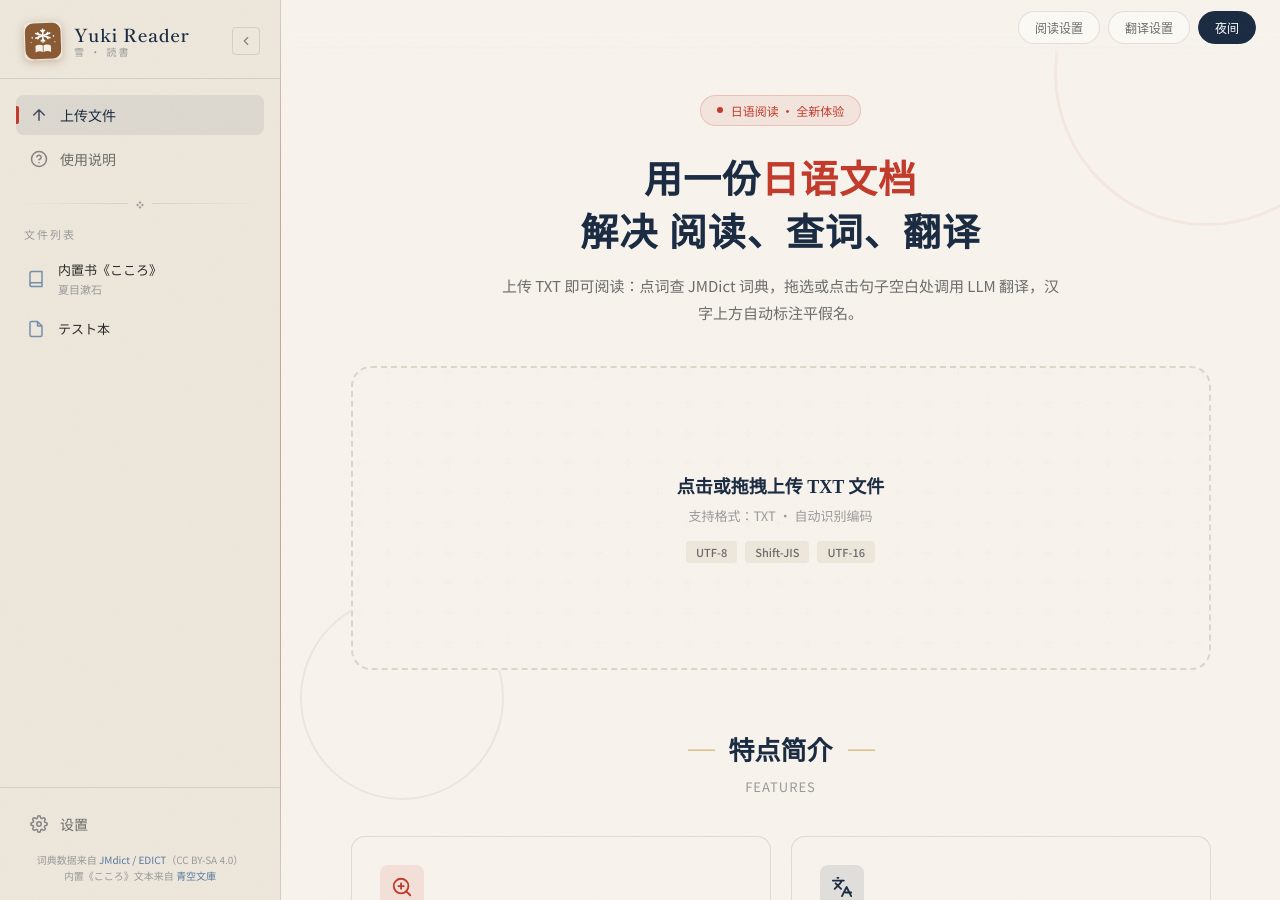
Test case: 书籍类别判定与提示词路由 › routes the translation system prompt by genre
Click the button "テスト本" at coordinates (125, 328), box x1=12 y1=309 x2=238 y2=348
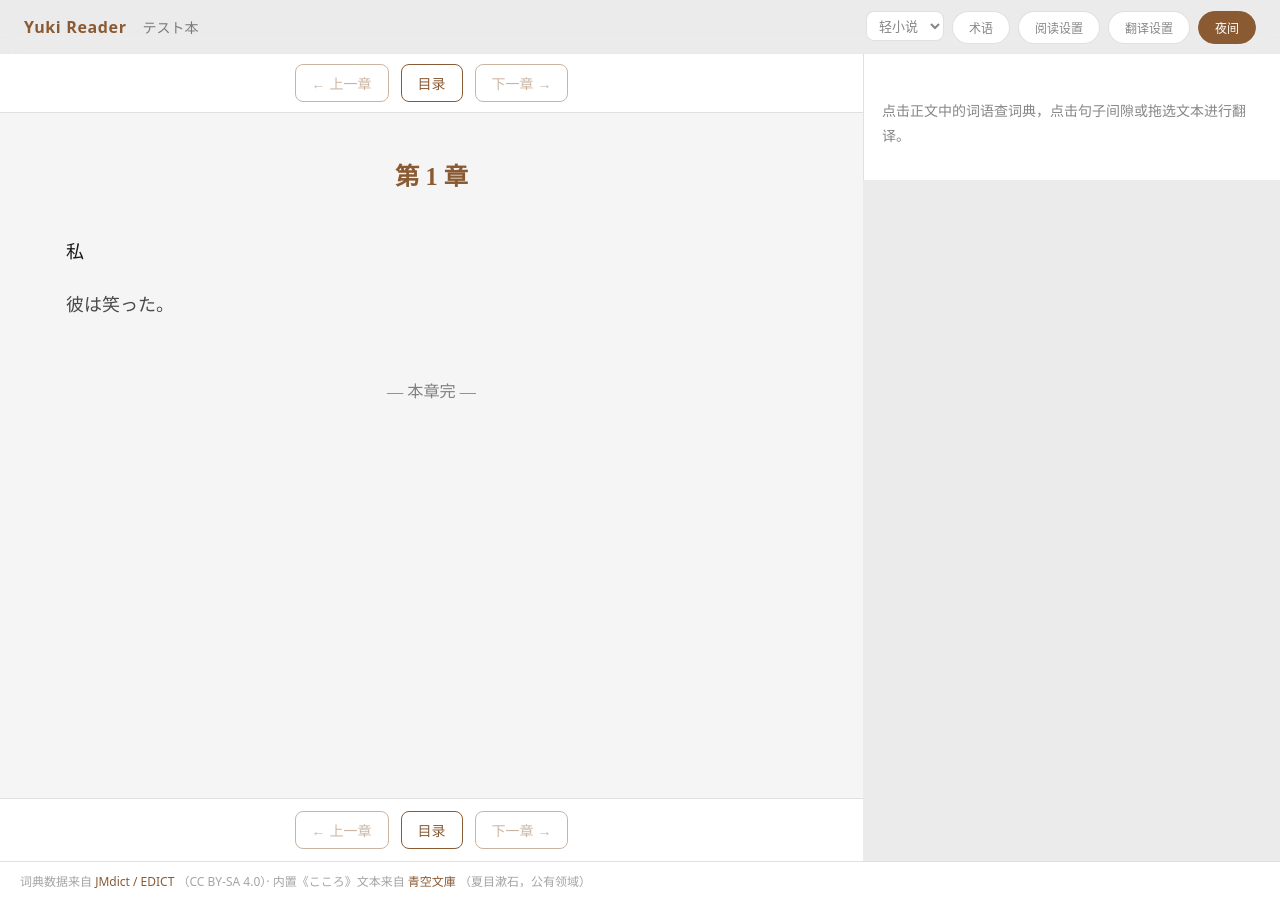
Click the element with test id "sentence" showing "私" at coordinates (75, 252), box x1=66 y1=242 x2=84 y2=262
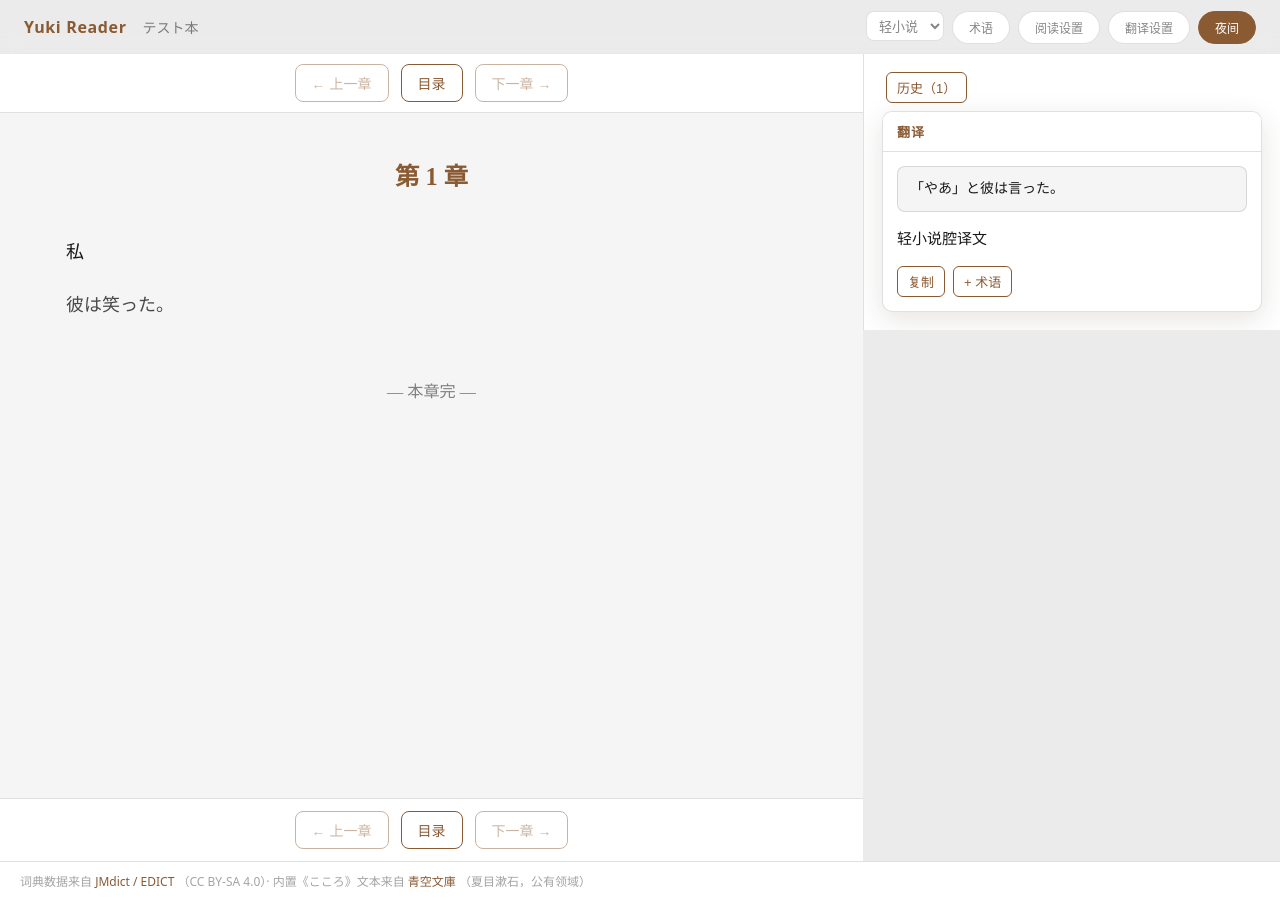
Check: the text "轻小说腔译文" is shown, box x1=897 y1=228 x2=987 y2=248
